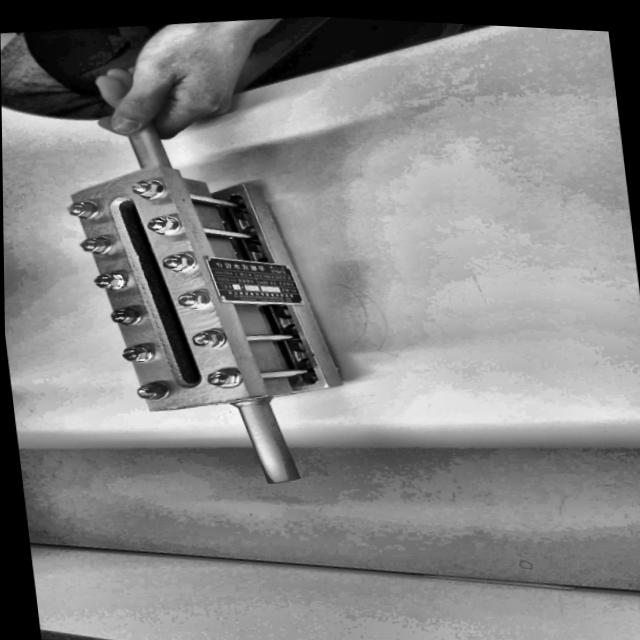ShuiWeiQi_12: (33, 110, 385, 511)
